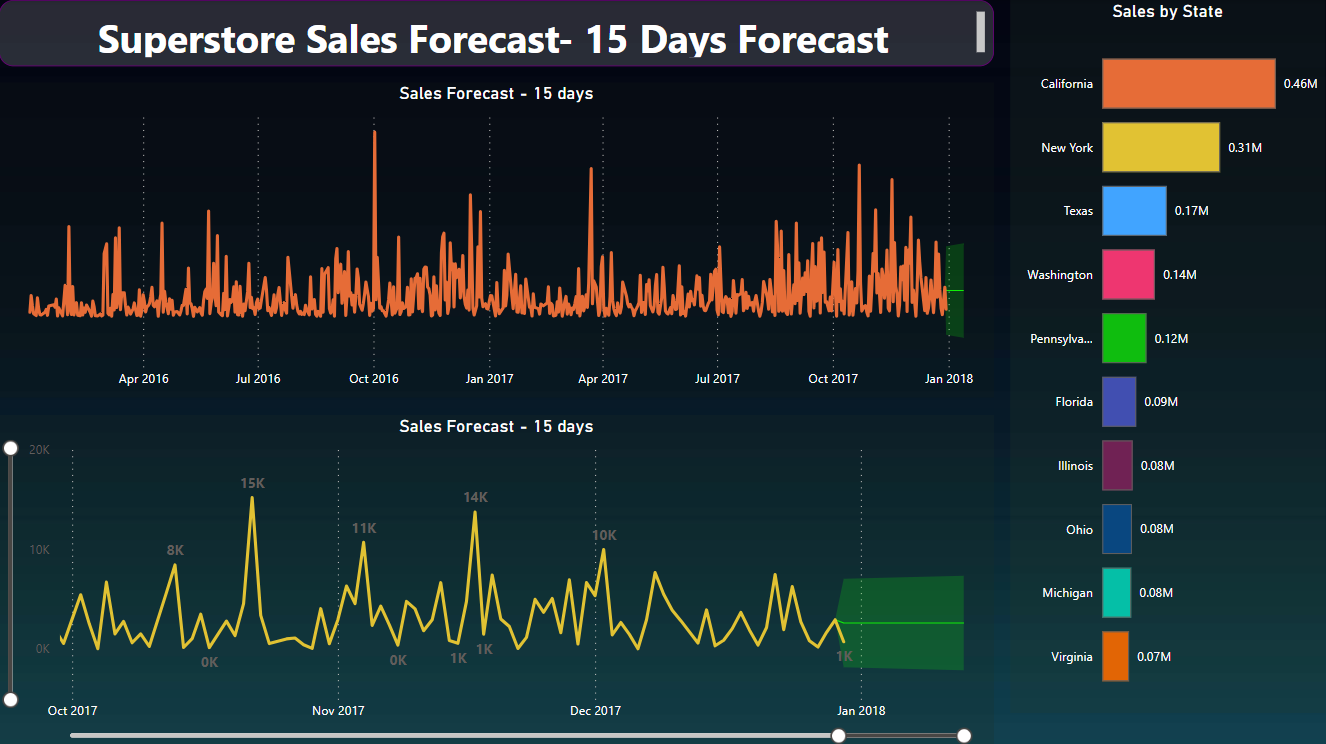

What the dashboard file says about the page in this screenshot:
{"tool":"powerbi","page":{"name":"Page 2","canvas":[1280,720],"ordinal":1},"visuals":[{"type":"lineChart","title":"Sales Forecast - 15 days","fields":{"Y":["Sum(Superstore sales (1).Sales)"],"Category":["Superstore sales (1).Order Date"]},"box":[0,80,960,304],"z":0},{"type":"lineChart","title":"Sales Forecast - 15 days","fields":{"Y":["Sum(Superstore sales (1).Sales)"],"Category":["Superstore sales (1).Order Date"]},"box":[0,400,960,320],"z":1000},{"type":"clusteredBarChart","title":"Sales by State","fields":{"Y":["Sum(Superstore sales (1).Sales)"],"Category":["Superstore sales (1).State"]},"box":[976,0,304,688],"z":2000},{"type":"textbox","box":[0,0,960,64],"z":3000}]}

Visuals, with their boxes in screenshot pixels (x1, y1, x2, y2), scaled from the page's 1280x720 canvas onto the 1326x744 screenshot:
"Sales Forecast - 15 days" lineChart: bbox(0, 83, 994, 397)
"Sales Forecast - 15 days" lineChart: bbox(0, 413, 994, 743)
"Sales by State" clusteredBarChart: bbox(1011, 0, 1325, 711)
textbox: bbox(0, 0, 994, 66)
